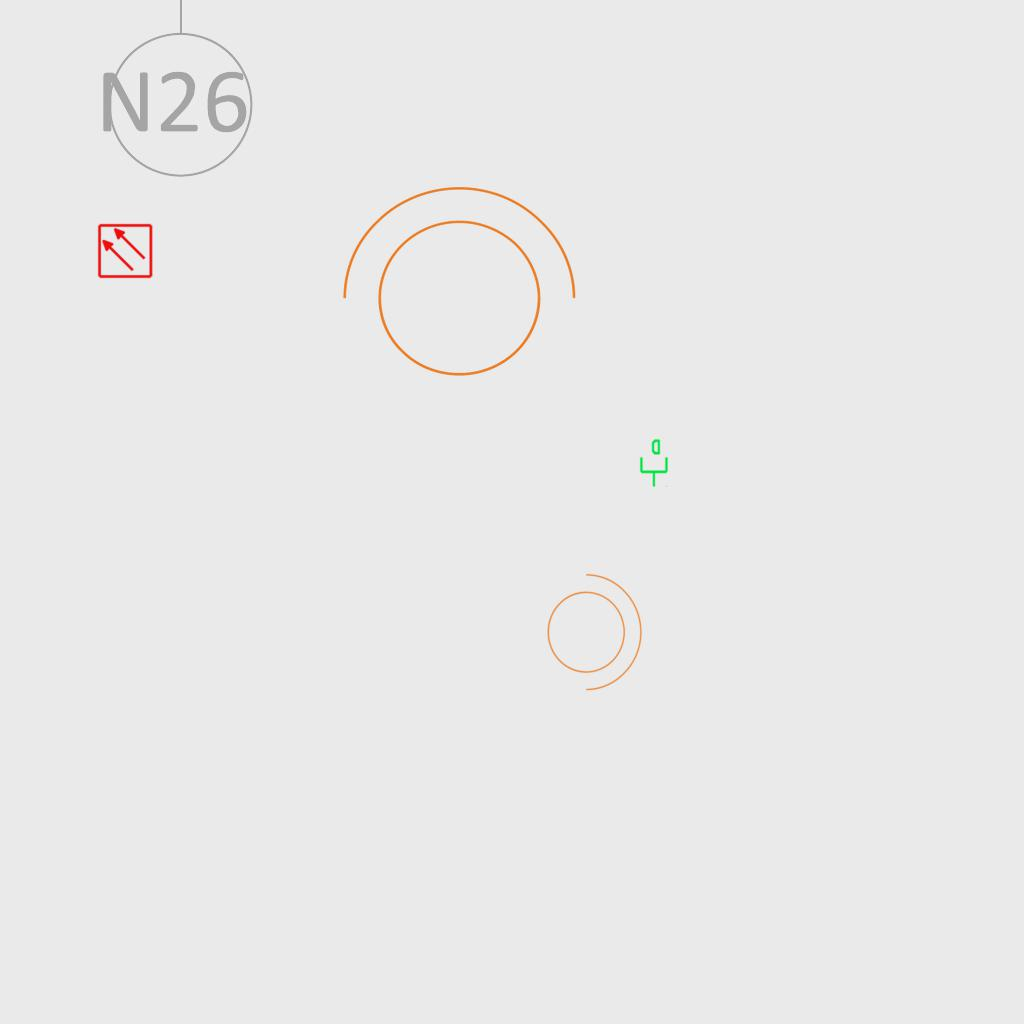Datenanschluss_einfach: (636, 438, 670, 488)
RMO_Rauchmelder_optischer: (97, 223, 153, 279)
Scheinwerfer_fuer_Alarmbeleuchtung: (321, 176, 585, 401), (535, 563, 647, 695)
